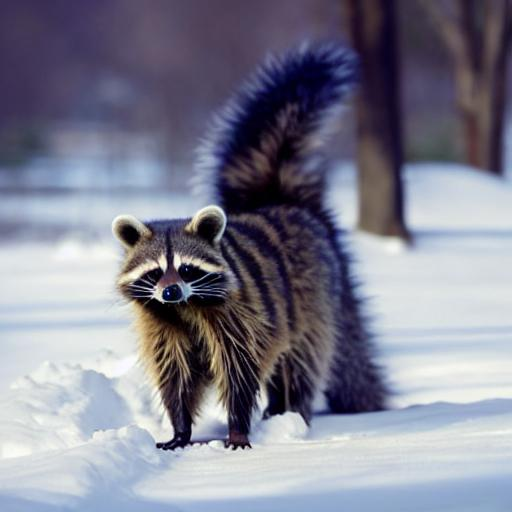raccoon: (107, 31, 370, 408)
